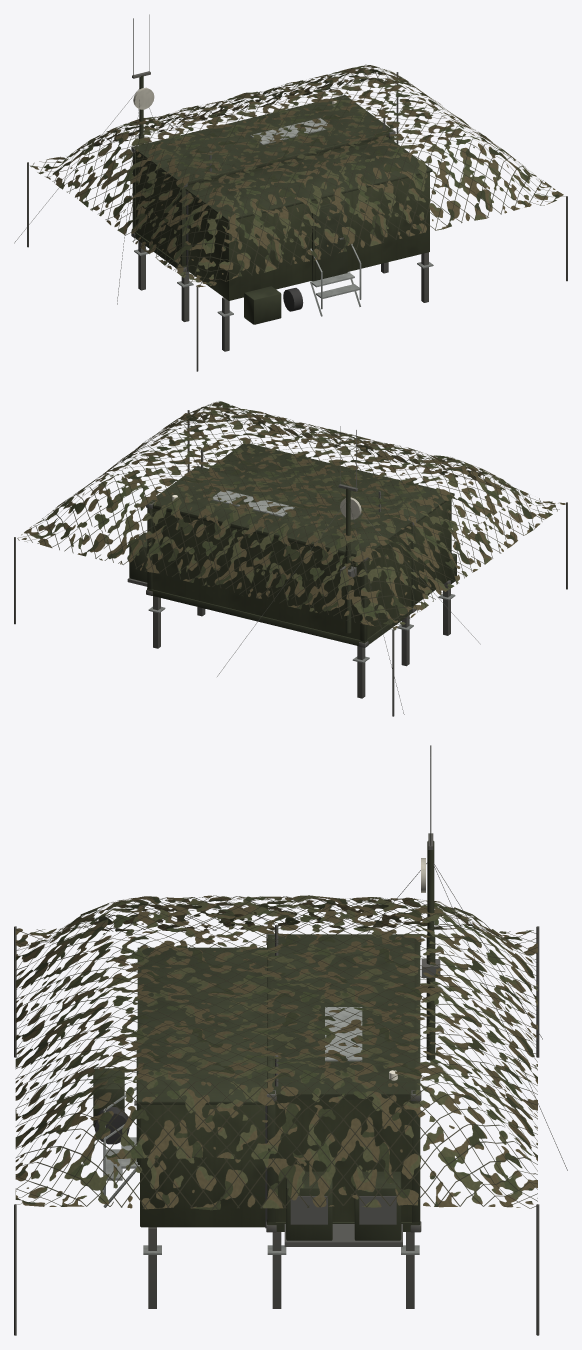
File: command_post.glb
3 renders of one model, top to bottom at view 1: azimuth 30°, elevation 25°; view 2: azimuth 150°, elevation 25°; view 3: azimuth 270°, elevation 25°, orthographic. The views are drawn at different scales.
Visible parts, largest first — view 1: command_post; view 2: command_post; view 3: command_post.
Part boxes in pixels (box(x1,y1,x2,y2)): command_post: box(14, 14, 567, 371); command_post: box(14, 401, 567, 716); command_post: box(14, 745, 567, 1335).
Bounding box in the file's own units: 10.94 × 7.27 × 8.9.
8 materials, 5 textured.
